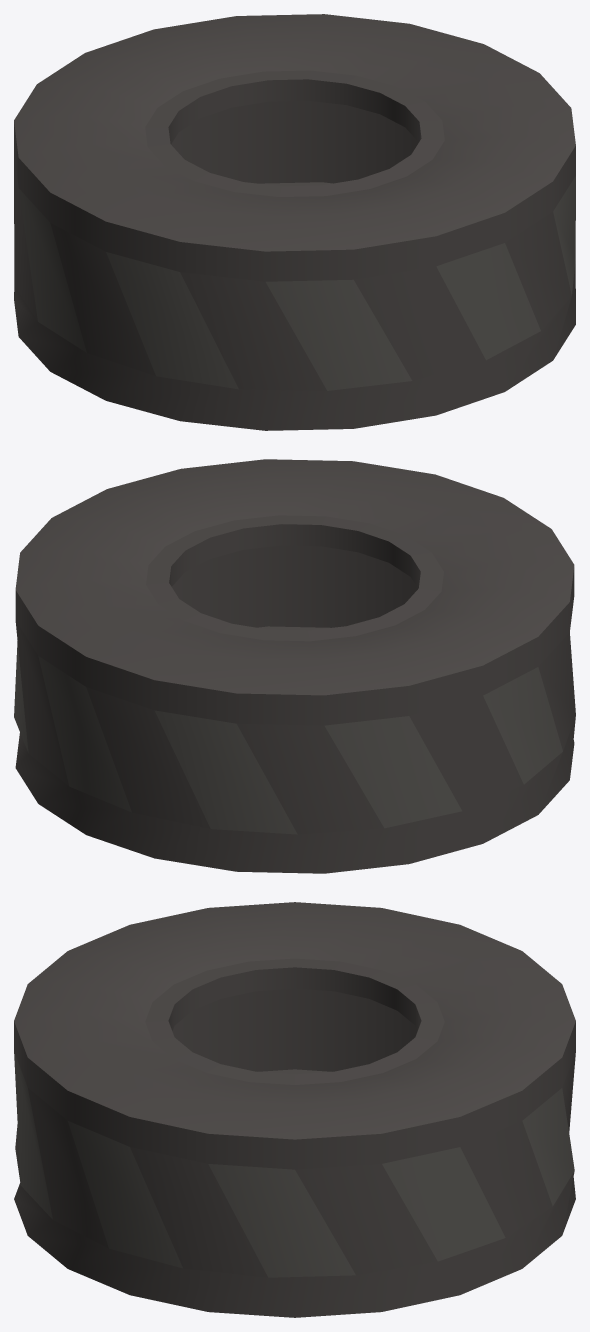
The model's file is P_tire_01_LD.fbx.
3 views of the same model, one above another, from view 1: azimuth 30°, elevation 25°; view 2: azimuth 150°, elevation 25°; view 3: azimuth 270°, elevation 25° (orthographic).
Visible parts, largest first — view 1: P_tire_01; view 2: P_tire_01; view 3: P_tire_01.
Part boxes in pixels (x1,y1,x2,y2): P_tire_01: (14, 14, 575, 430); P_tire_01: (14, 459, 575, 873); P_tire_01: (14, 902, 575, 1317).
Size of the model in its own units: 94.36 by 36.48 by 94.36.
1 material, 1 textured.
